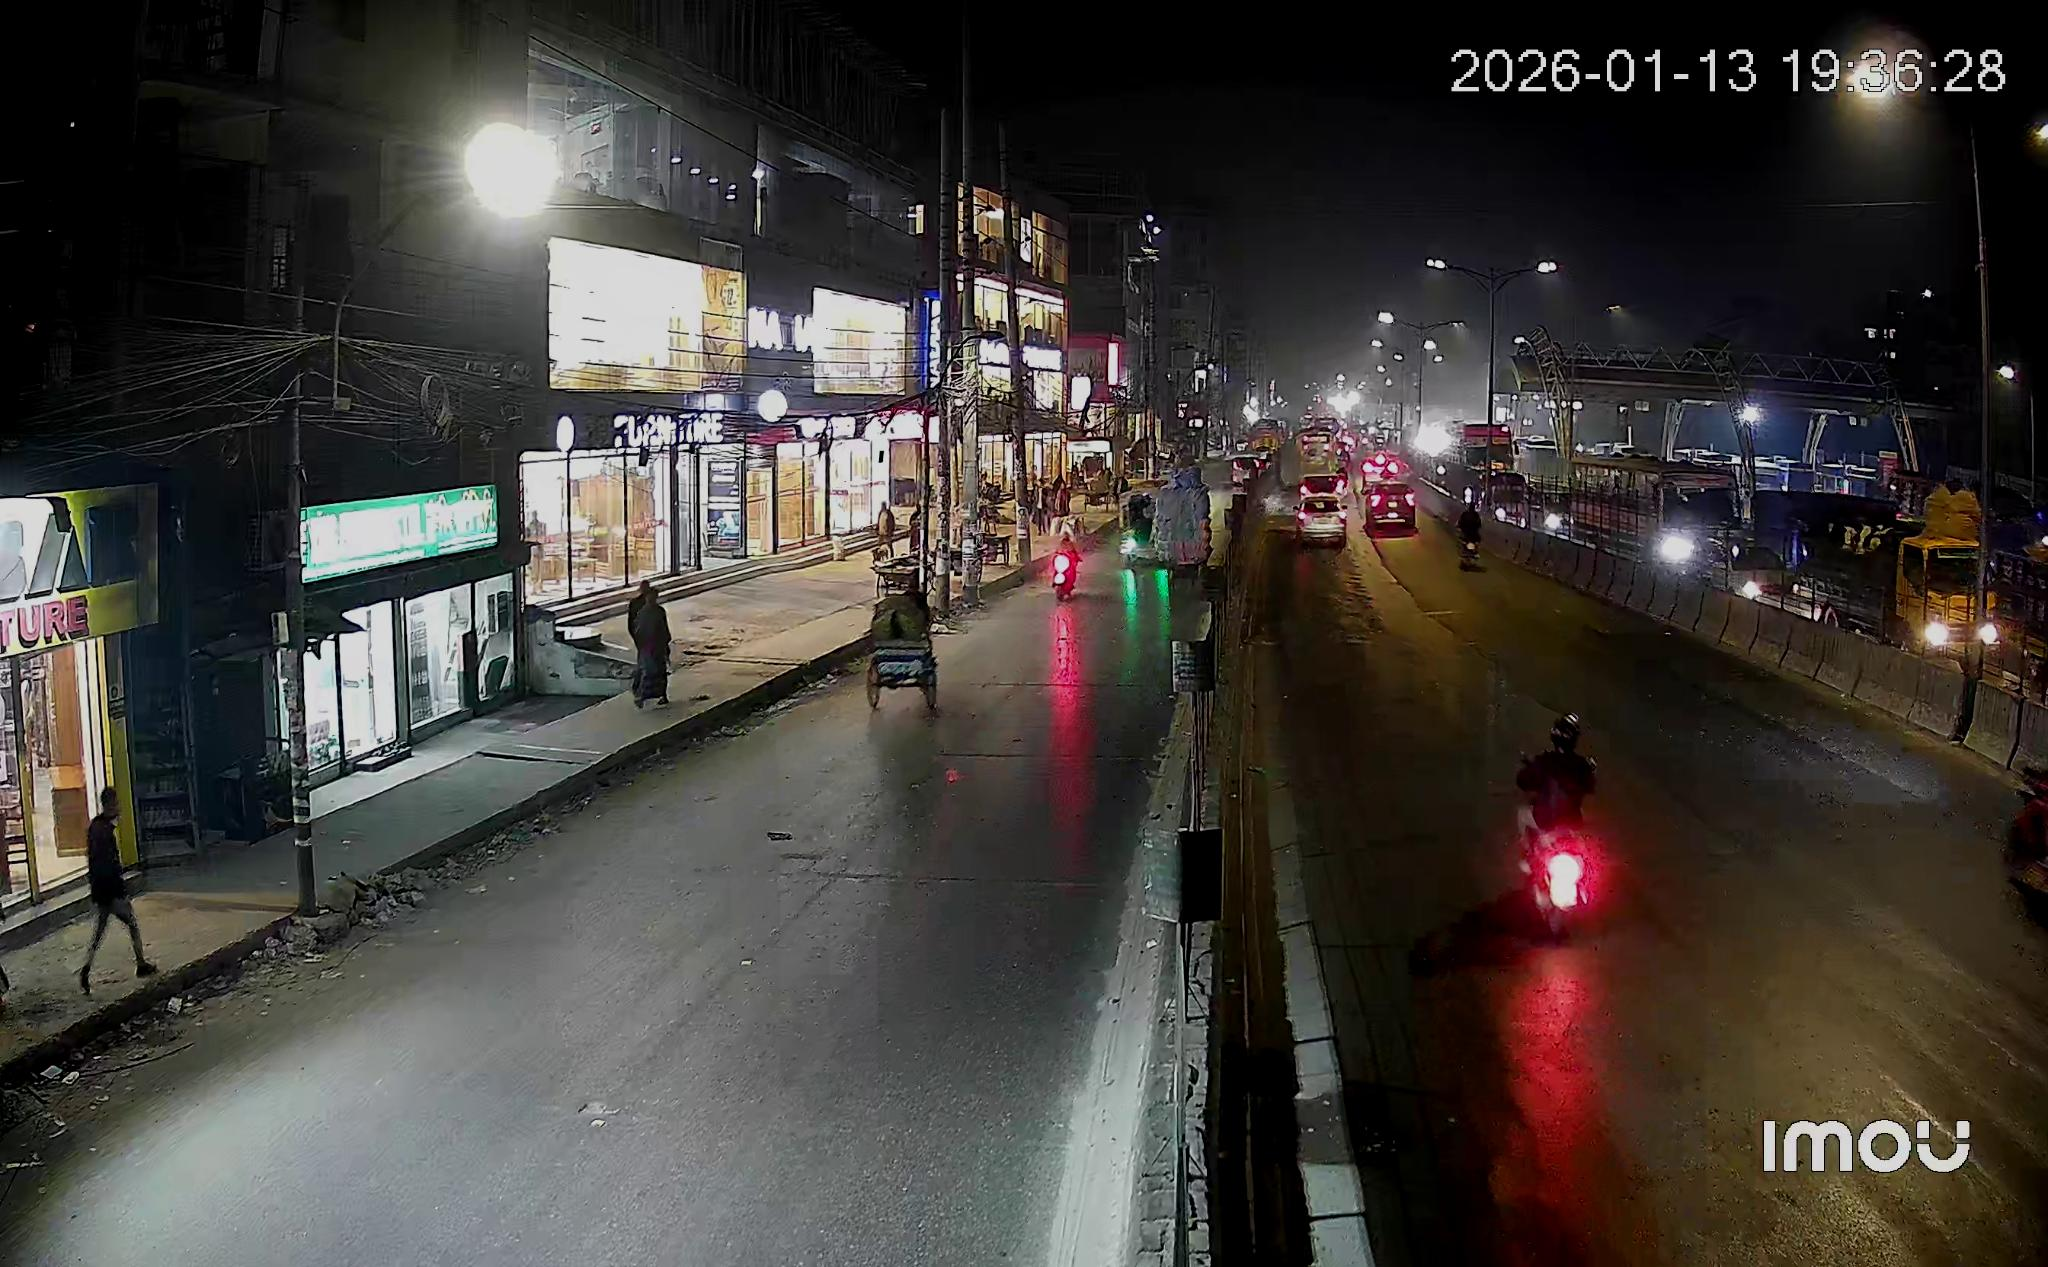Cycle Rickshaw: (863, 560, 938, 711)
Motorcycle: (1516, 715, 1595, 933), (1050, 538, 1075, 600), (1456, 506, 1479, 568)
Private-Sedan Car: (1296, 492, 1352, 547), (1359, 483, 1416, 534)
